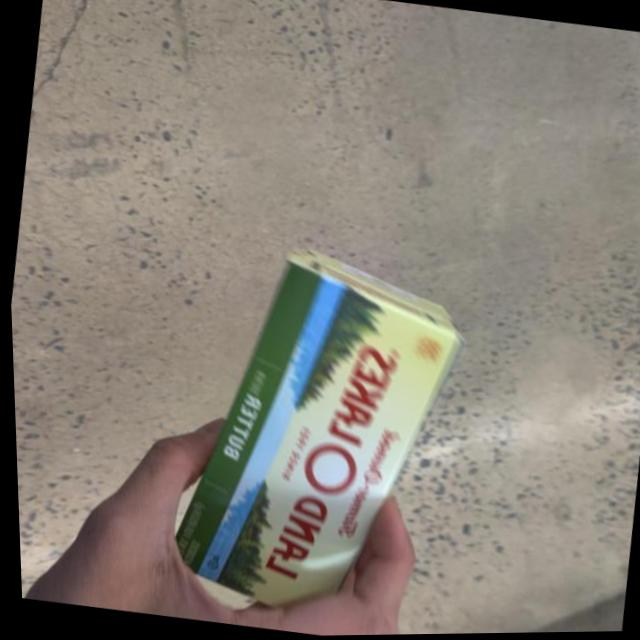Butter: (124, 206, 490, 639)
